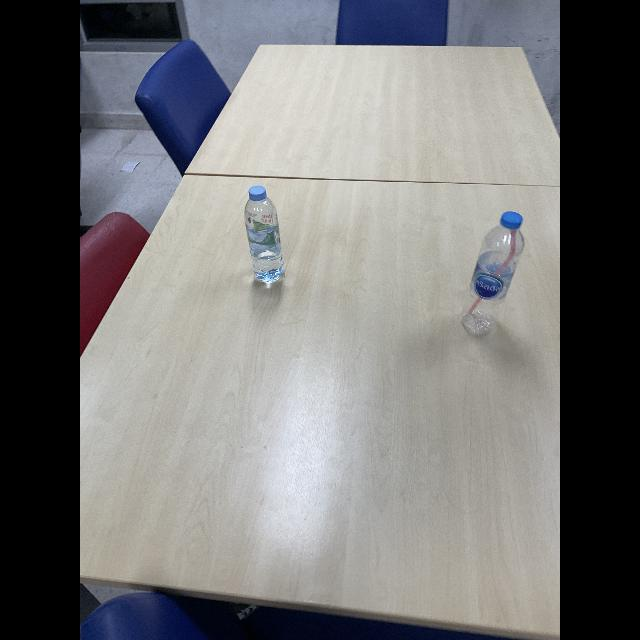plastic_bottle: (460, 210, 526, 340), (242, 182, 288, 288)
